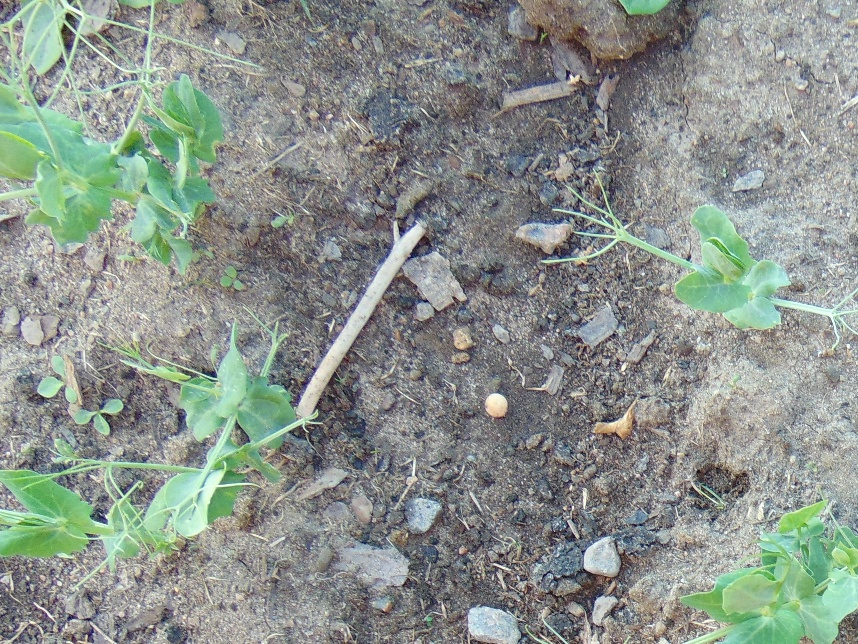crop: (1, 1, 232, 270), (579, 185, 858, 350), (1, 435, 269, 581), (121, 312, 321, 457), (680, 499, 858, 644)
weed: (20, 1, 65, 76), (37, 355, 80, 401), (74, 396, 124, 434), (220, 264, 242, 290)
